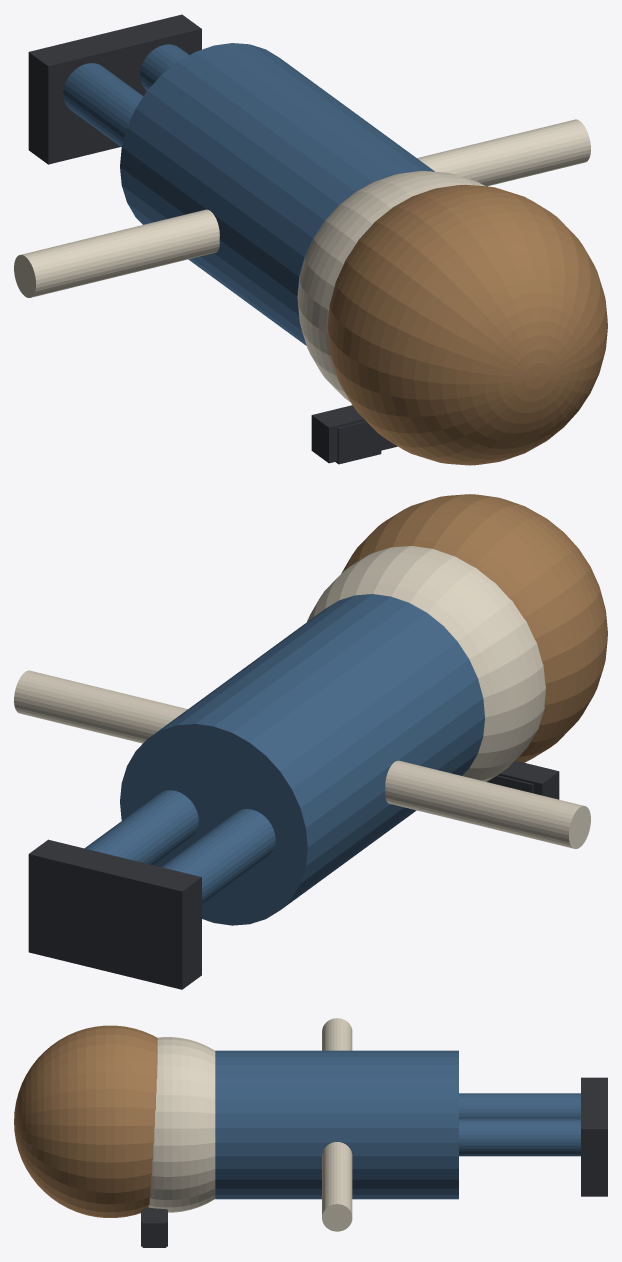
Rendered from player-captain.glb.
3 renders of one model, top to bottom at view 1: azimuth 30°, elevation 25°; view 2: azimuth 150°, elevation 25°; view 3: azimuth 270°, elevation 25°, orthographic. The views are drawn at different scales.
Parts seen in each view (by area): view 1: sculpted_hair_cap, rounded_navy_body, left_arm, glossy_head, left_shoe, right_arm, left_leg, right_shoe, black_glasses_frame, left_lens, right_leg; view 2: rounded_navy_body, sculpted_hair_cap, glossy_head, left_shoe, left_arm, right_shoe, right_arm, left_leg, right_leg, black_glasses_frame; view 3: rounded_navy_body, sculpted_hair_cap, glossy_head, right_leg, left_leg, right_arm, right_shoe, black_glasses_frame, left_arm, left_shoe.
Part boxes in pixels (<box>): sculpted_hair_cap: <box>327,184,607,465</box>; rounded_navy_body: <box>120,43,434,345</box>; left_arm: <box>14,209,219,297</box>; glossy_head: <box>297,171,485,402</box>; left_shoe: <box>28,33,124,164</box>; right_arm: <box>417,119,590,186</box>; left_leg: <box>63,63,143,146</box>; right_shoe: <box>105,14,201,95</box>; black_glasses_frame: <box>311,405,397,463</box>; left_lens: <box>336,421,381,464</box>; right_leg: <box>140,44,189,90</box>; rounded_navy_body: <box>120,594,484,925</box>; sculpted_hair_cap: <box>341,494,607,762</box>; glossy_head: <box>307,546,545,781</box>; left_shoe: <box>105,858,201,989</box>; left_arm: <box>385,760,590,848</box>; right_shoe: <box>28,839,124,970</box>; right_arm: <box>14,670,187,743</box>; left_leg: <box>161,809,275,903</box>; right_leg: <box>84,790,198,864</box>; black_glasses_frame: <box>487,761,559,799</box>; rounded_navy_body: <box>215,1050,458,1199</box>; sculpted_hair_cap: <box>14,1025,157,1217</box>; glossy_head: <box>148,1037,215,1212</box>; right_leg: <box>459,1119,580,1156</box>; left_leg: <box>459,1093,580,1119</box>; right_arm: <box>322,1142,352,1231</box>; right_shoe: <box>581,1103,607,1196</box>; black_glasses_frame: <box>142,1207,166,1247</box>; left_arm: <box>322,1018,352,1050</box>; left_shoe: <box>581,1077,607,1103</box>.
Size of the model in its own units: 1.3 by 0.5746 by 1.75.
